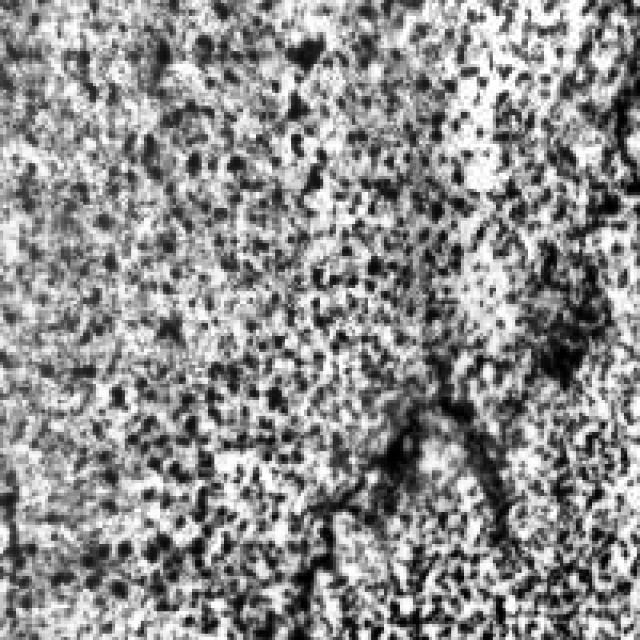Rolled_in_Scale: (16, 0, 640, 621)
